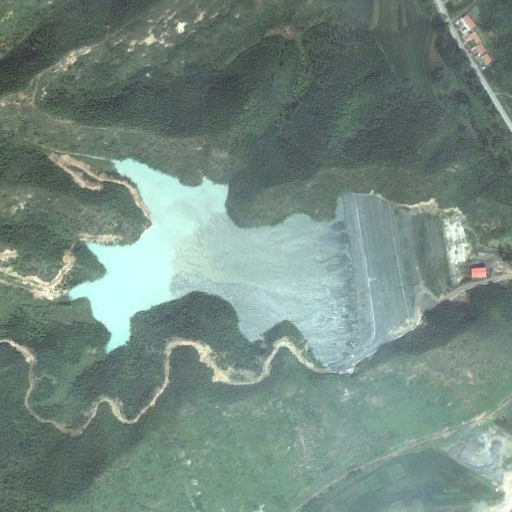tp: (69, 160, 449, 370)
